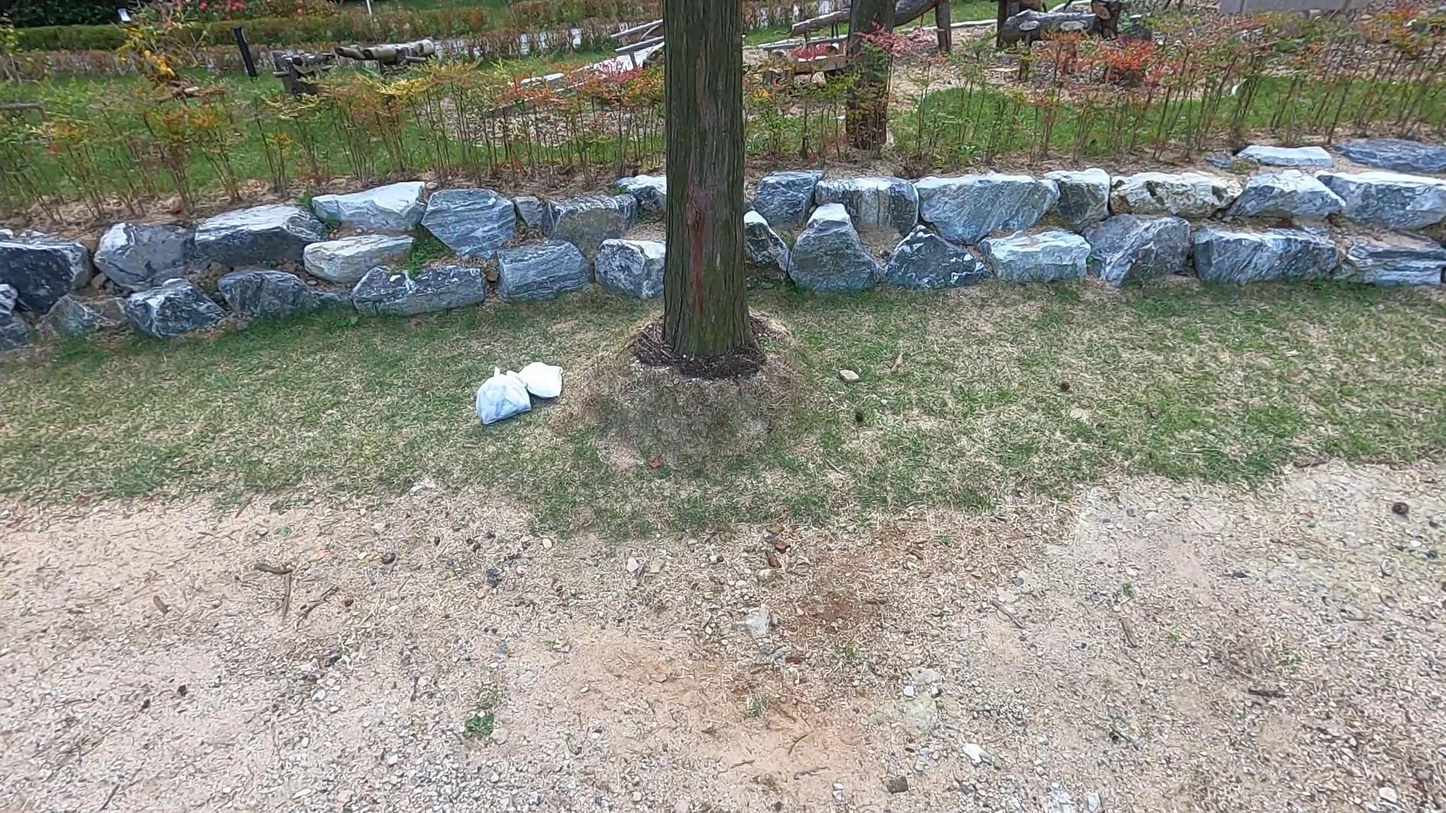trash: (471, 367, 534, 427), (510, 351, 571, 406)
